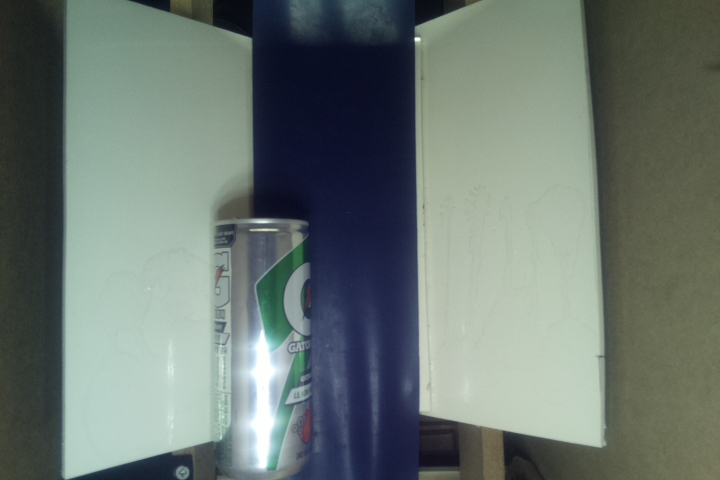can: (207, 218, 316, 480)
